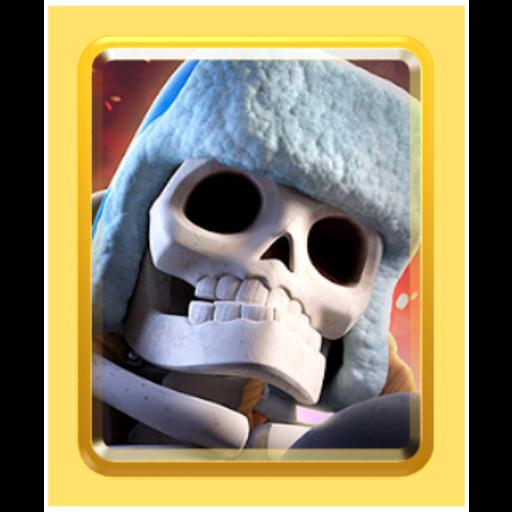giant-skeleton: (88, 53, 416, 451)
